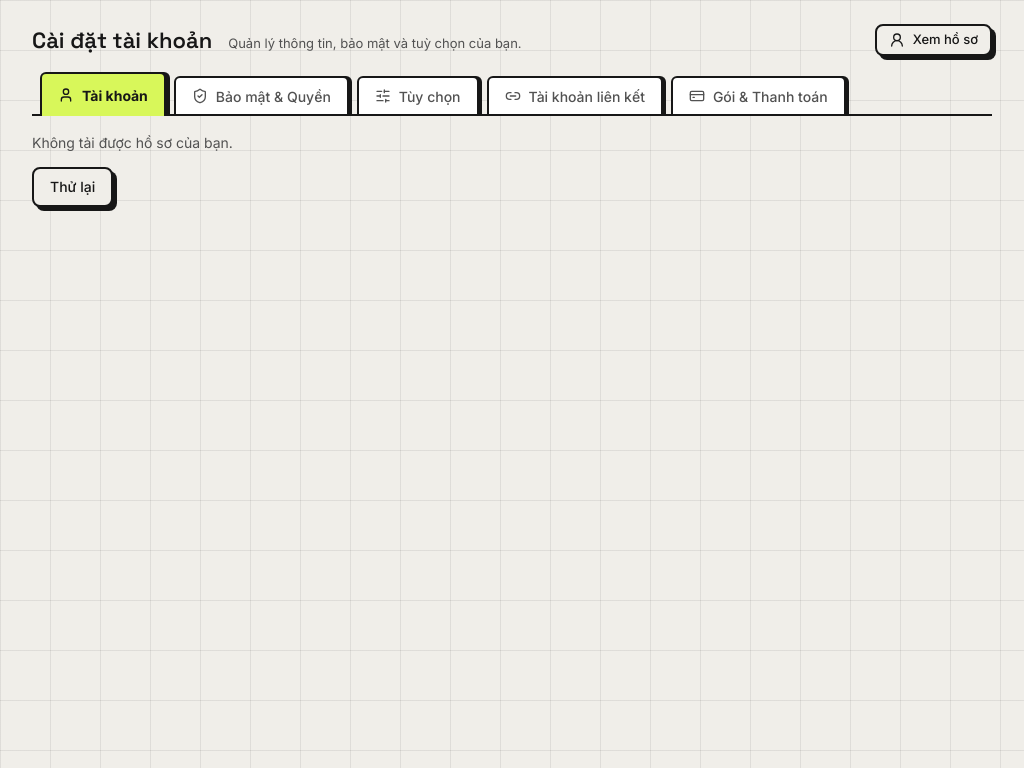
SettingsScreen › offers a retry when the profile fails to load
Expected: the text "Không tải được hồ sơ của bạn." is shown, [32,132,233,155]
Click the button "Thử lại" at (73, 187), box [32,167,113,207]
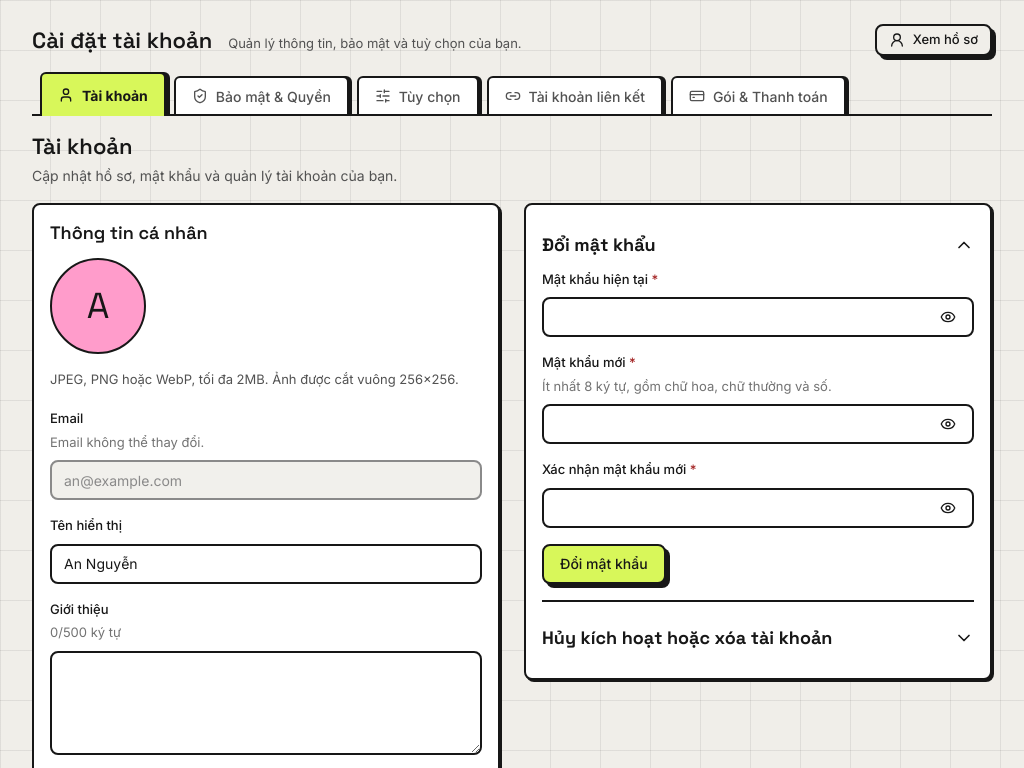
Expected: the heading "Tài khoản" is shown, [32,132,133,160]
